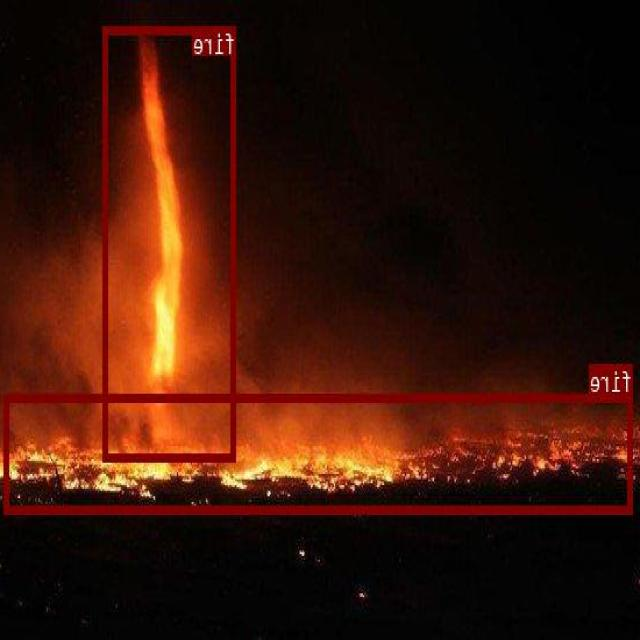fire: (6, 393, 634, 512), (104, 25, 236, 460)
